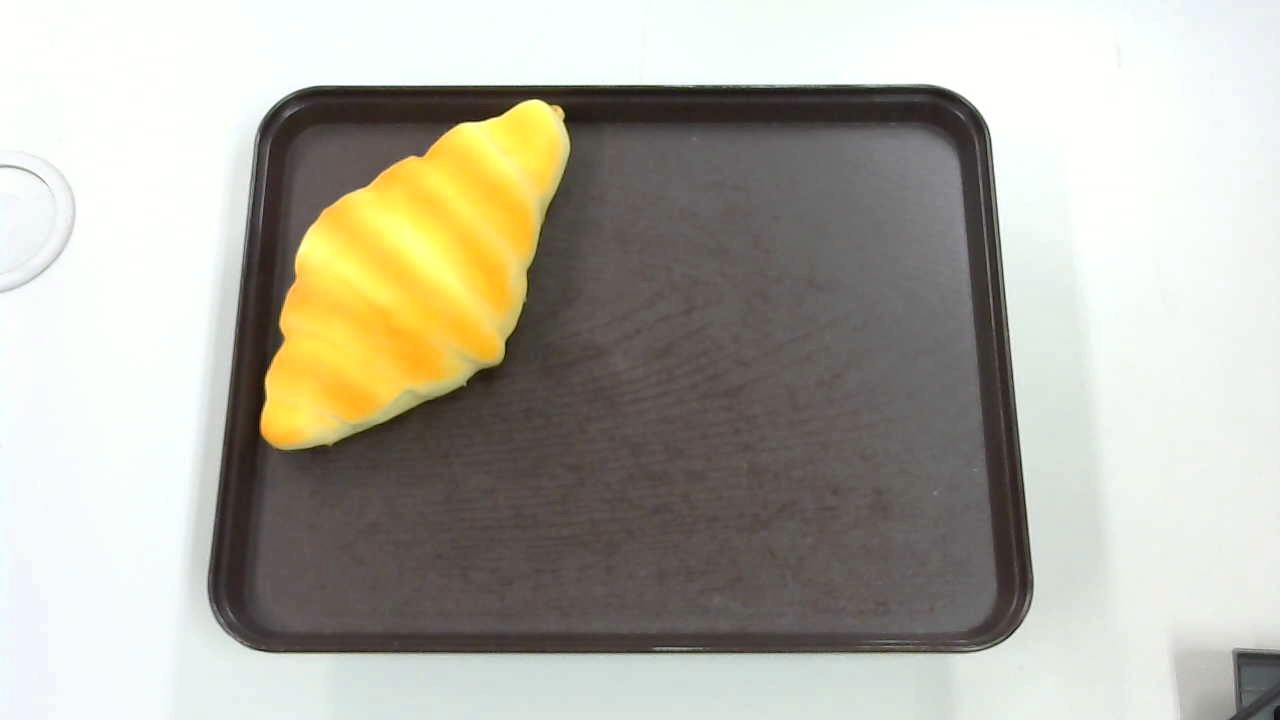croissant: (259, 99, 570, 451)
